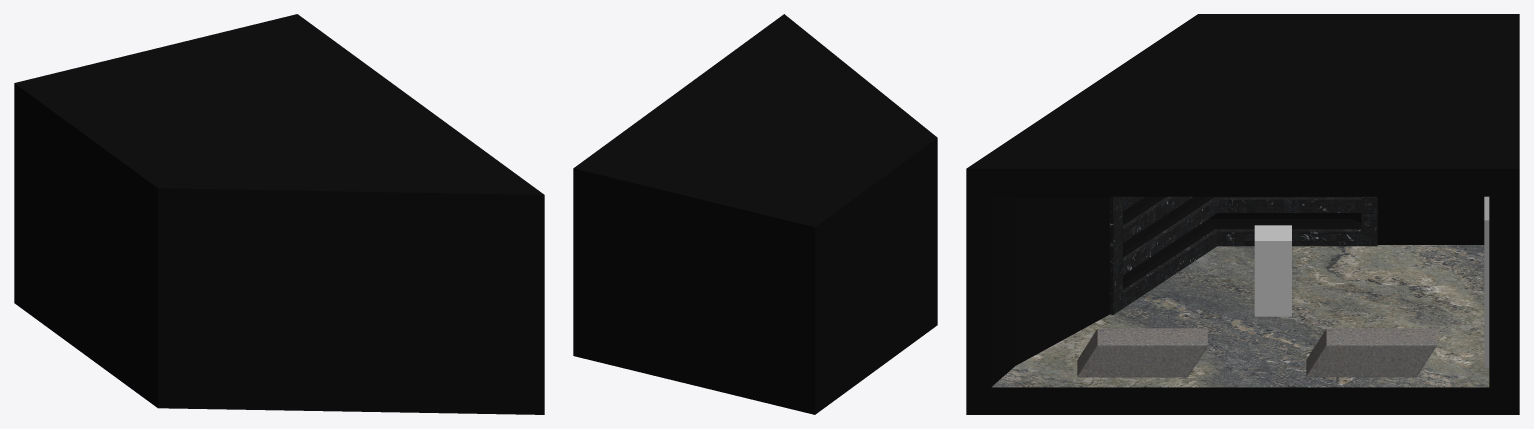
The model's file is Room.fbx.
3 views of the same model, side by side, from view 1: azimuth 30°, elevation 25°; view 2: azimuth 150°, elevation 25°; view 3: azimuth 270°, elevation 25° (orthographic). The views are drawn at different scales.
Parts seen in each view (by area): view 1: ROOM; view 2: ROOM; view 3: ROOM, floor, Ldisplay_proct, cube_seat_1, cube_seat_2, cube_middle, Ldisplay_inside_4, Ldisplay_inside_3, display_proct, Ldisplay_inside_2.
Part boxes in pixels (left/top/right/bottom): ROOM: left=14, top=14, right=544, bottom=414; ROOM: left=573, top=14, right=937, bottom=414; ROOM: left=966, top=14, right=1519, bottom=414; floor: left=991, top=245, right=1489, bottom=387; Ldisplay_proct: left=1109, top=196, right=1377, bottom=314; cube_seat_1: left=1077, top=328, right=1207, bottom=377; cube_seat_2: left=1306, top=328, right=1436, bottom=377; cube_middle: left=1254, top=225, right=1291, bottom=316; Ldisplay_inside_4: left=1123, top=219, right=1360, bottom=289; Ldisplay_inside_3: left=1123, top=196, right=1360, bottom=257; display_proct: left=1484, top=196, right=1489, bottom=367; Ldisplay_inside_2: left=1123, top=196, right=1166, bottom=225.
Size of the model in its own units: 438 by 325 by 662.
